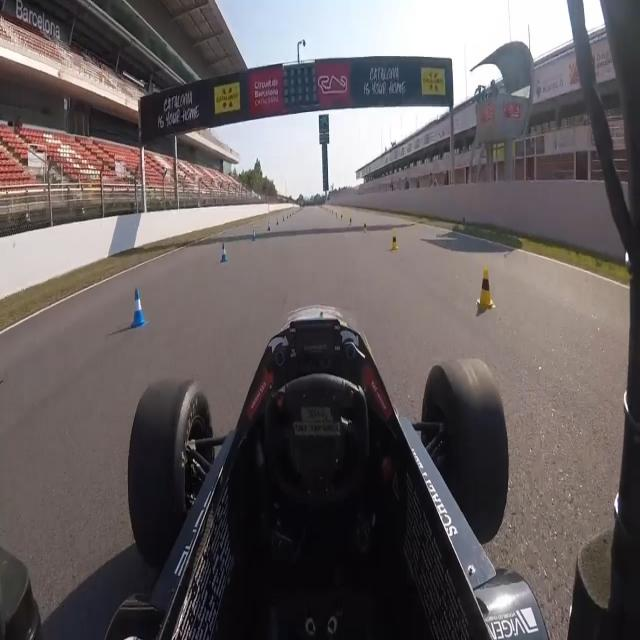blue_cone: (129, 284, 148, 330), (220, 241, 228, 263)
yellow_cone: (476, 264, 496, 312), (390, 231, 399, 252)
